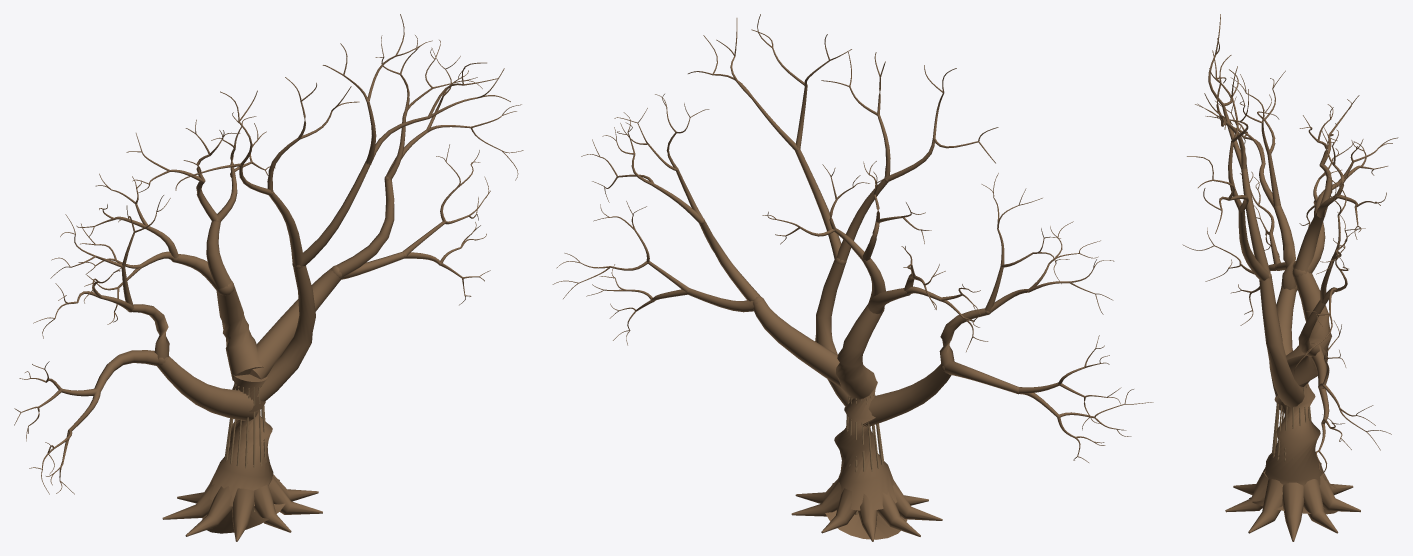
File: tree.glb
The picture shows the model from 3 angles, left to right: view 1: azimuth 30°, elevation 25°; view 2: azimuth 150°, elevation 25°; view 3: azimuth 270°, elevation 25°; orthographic projection. The views are drawn at different scales.
Parts seen in each view (by area): view 1: tree_weathered bark, tree_bark ridges; view 2: tree_weathered bark, tree_bark ridges; view 3: tree_weathered bark, tree_bark ridges.
Boxes of the visible parts, x1=… form: tree_weathered bark: x1=14, y1=14, x2=523, y2=541; tree_bark ridges: x1=224, y1=384, x2=266, y2=511; tree_weathered bark: x1=552, y1=14, x2=1153, y2=541; tree_bark ridges: x1=846, y1=394, x2=884, y2=514; tree_weathered bark: x1=1182, y1=14, x2=1398, y2=541; tree_bark ridges: x1=1271, y1=384, x2=1311, y2=461.
Size of the model in its own units: 14.54 by 12.7 by 5.05.
